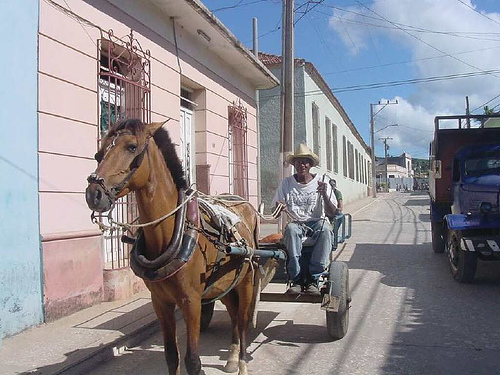horse: (85, 117, 271, 374)
